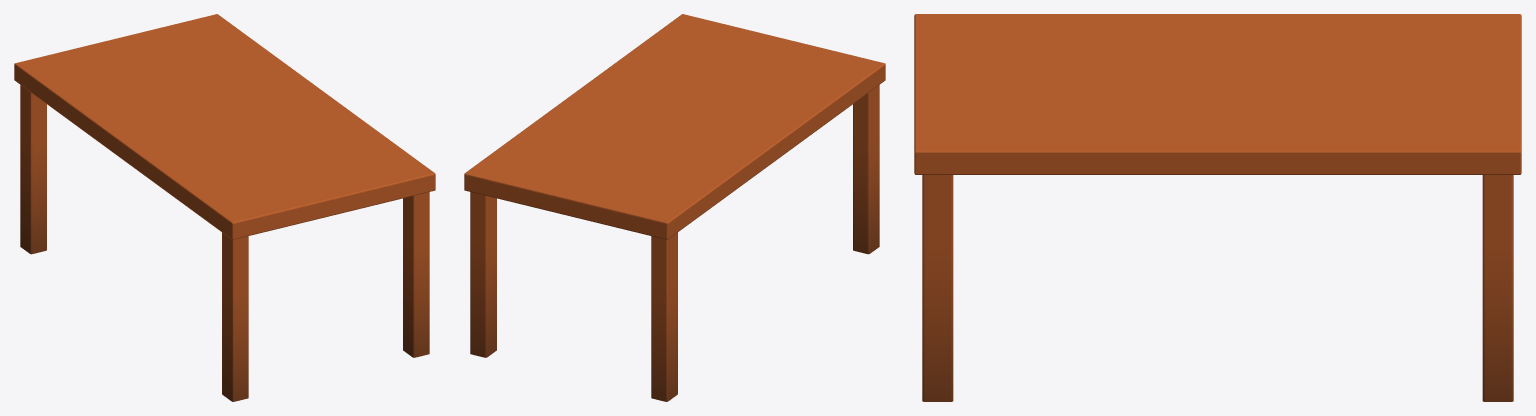
File: Table.gltf
3 renders of one model, left to right at view 1: azimuth 30°, elevation 25°; view 2: azimuth 150°, elevation 25°; view 3: azimuth 270°, elevation 25°, orthographic. The views are drawn at different scales.
Visible parts, largest first — view 1: Table; view 2: Table; view 3: Table.
Boxes of the visible parts, x1,y1,x2,y2 form: Table: [14, 14, 435, 401]; Table: [464, 14, 885, 401]; Table: [914, 14, 1521, 401].
Size of the model in its own units: 0.8338 by 0.7115 by 1.55.
Materials: 1 (1 with a texture image).
